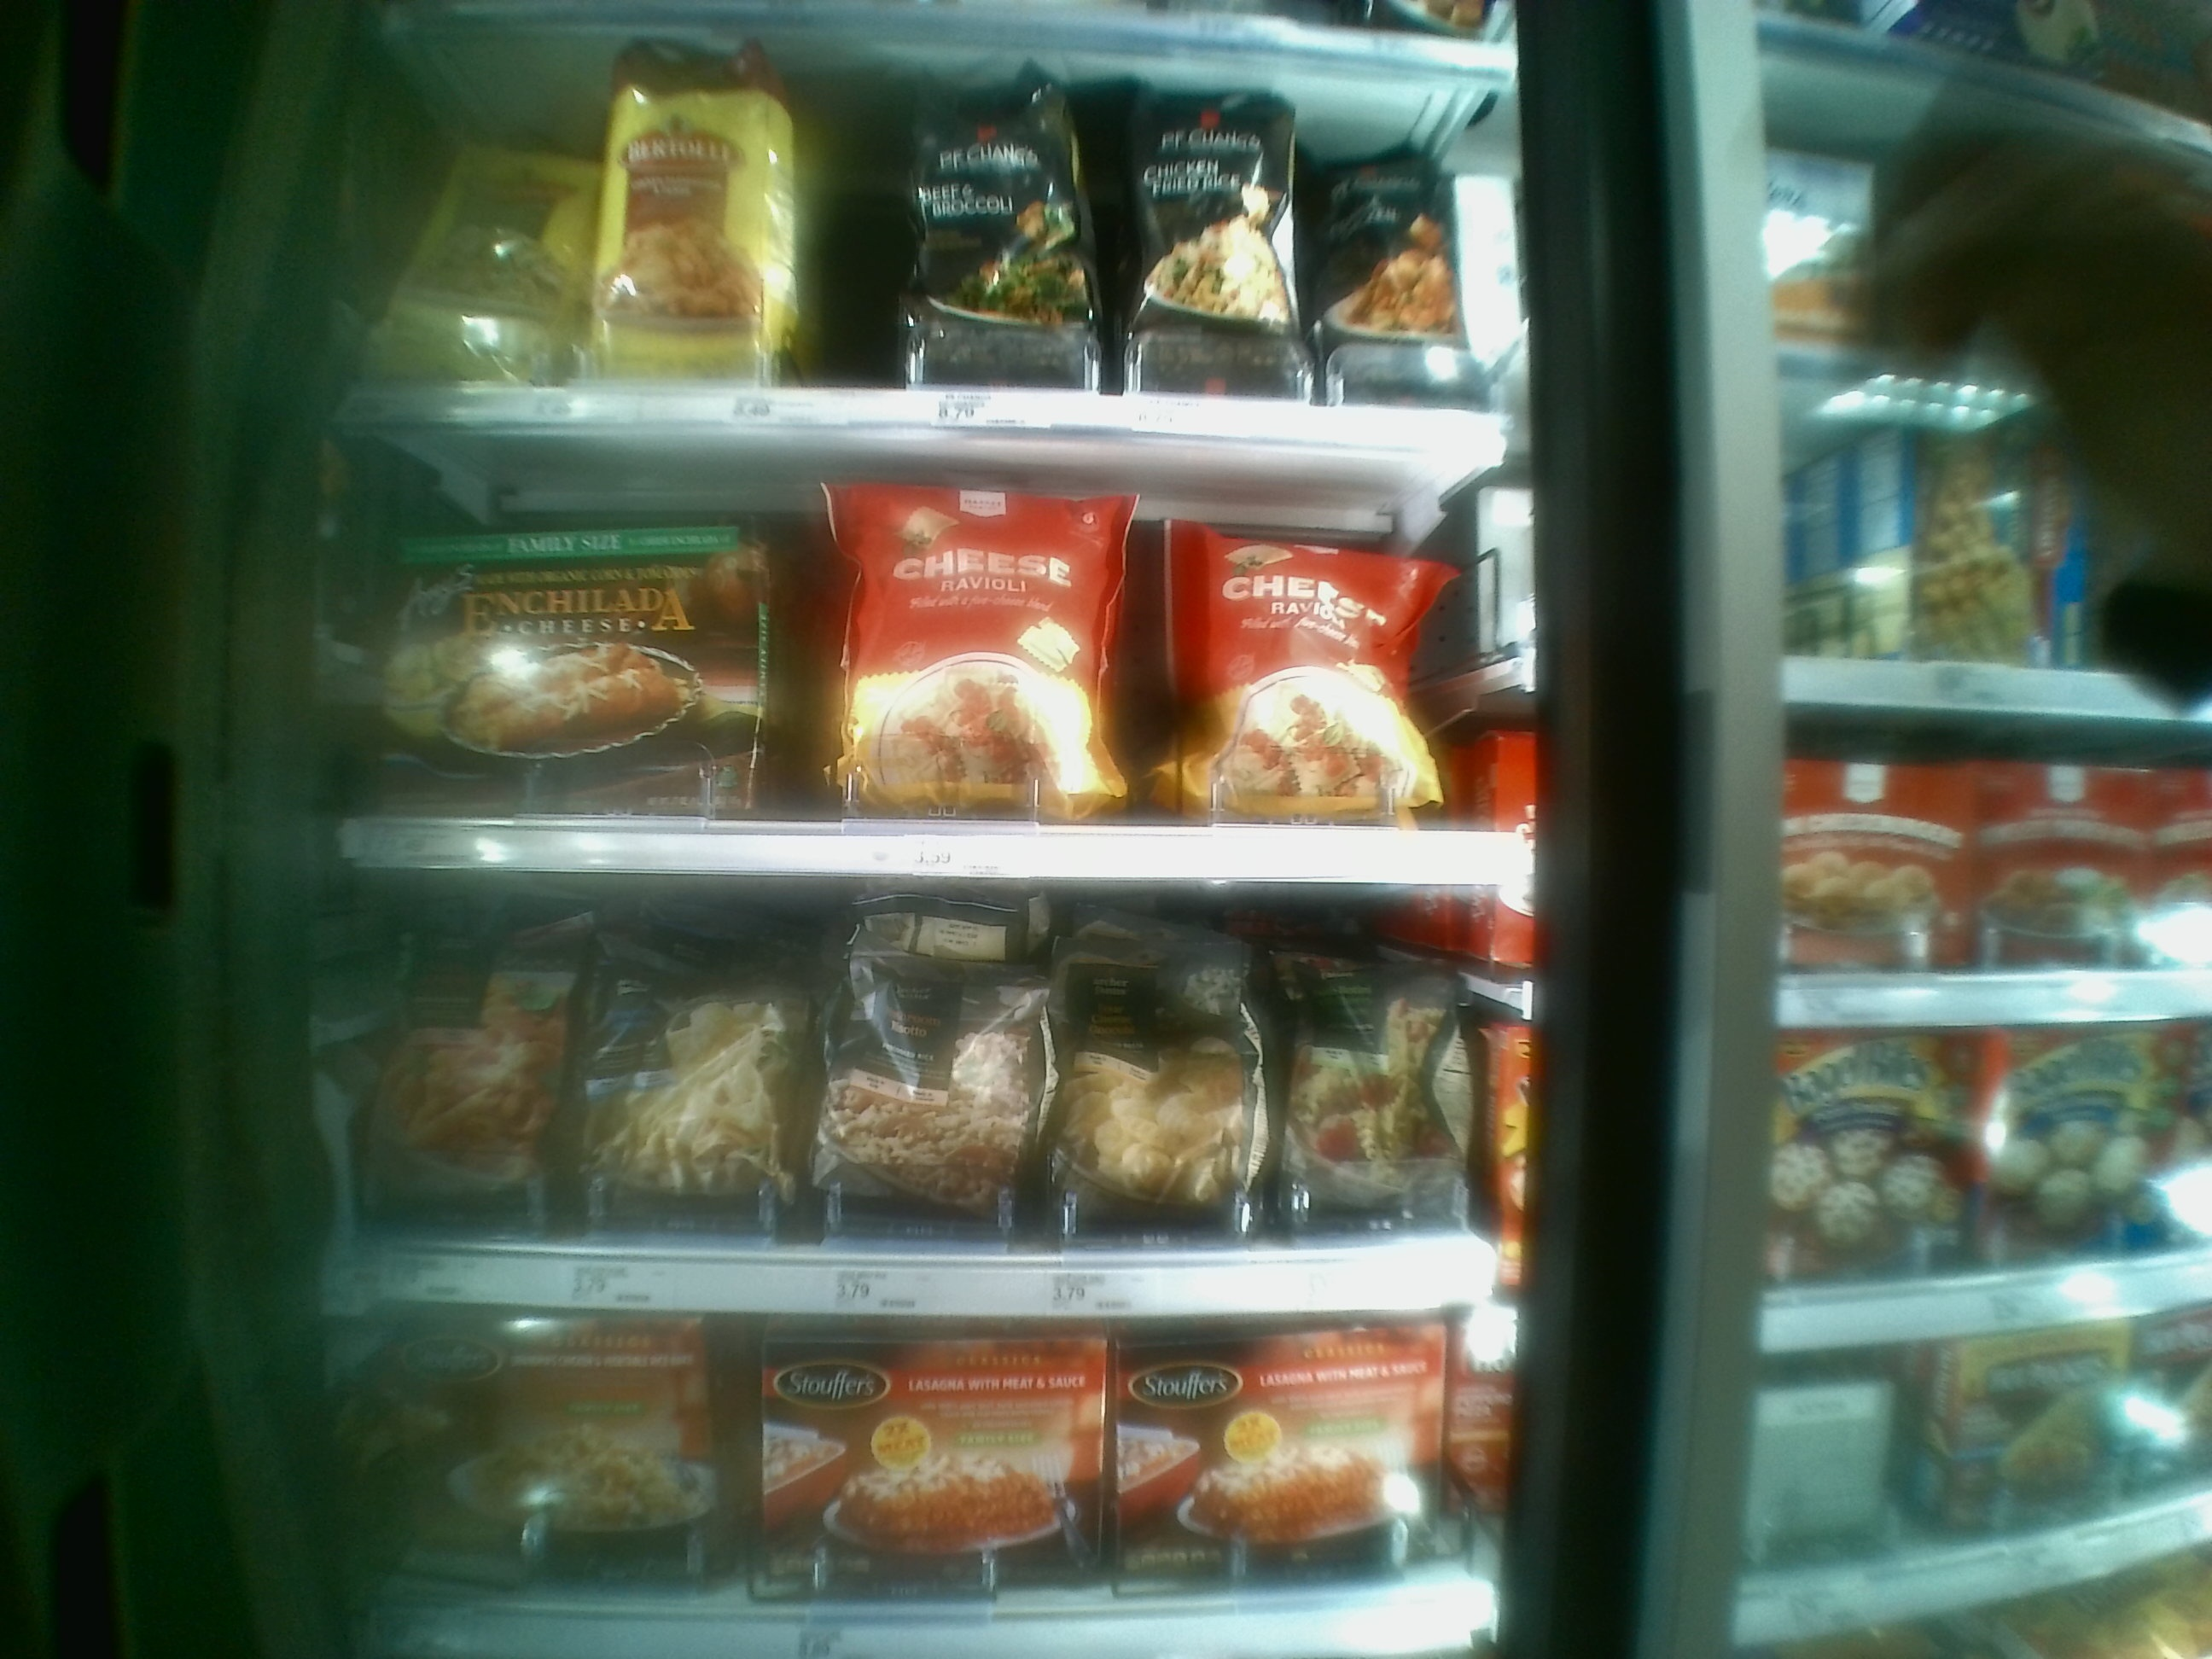shelf: (326, 415, 1524, 882), (340, 870, 1498, 1303)
